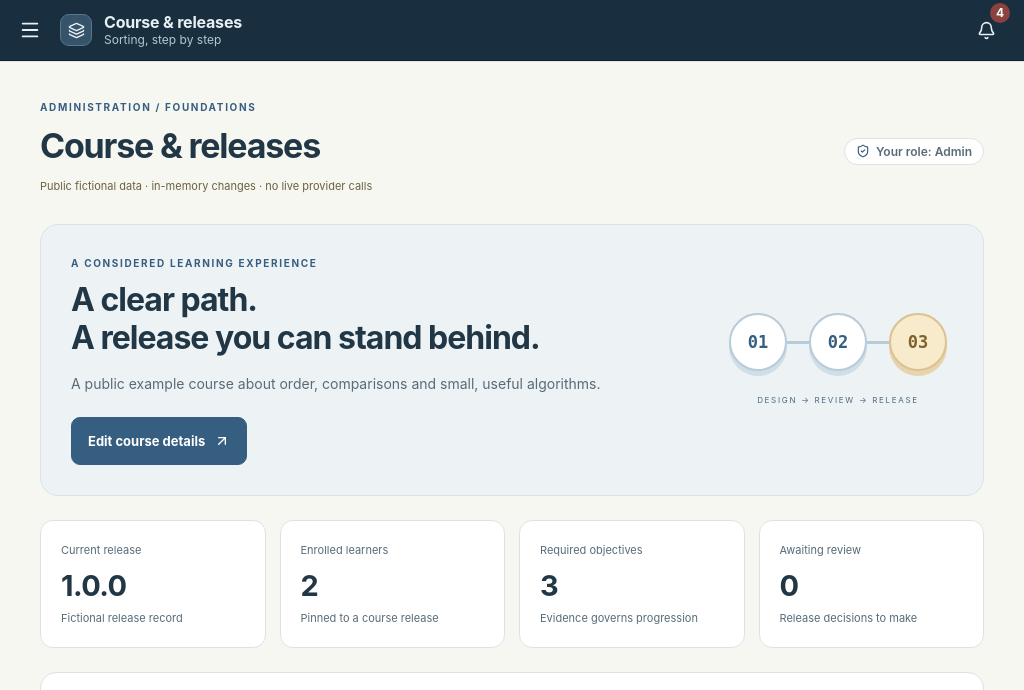
Scenario: phone and tablet navigation › opens the chosen section, closes the drawer and focuses the new page's heading
Expected: the heading "Course & releases" is shown, left=40, top=126, right=320, bottom=165
Click the button named "Open menu".
click(30, 30)  # box left=8, top=8, right=52, bottom=52
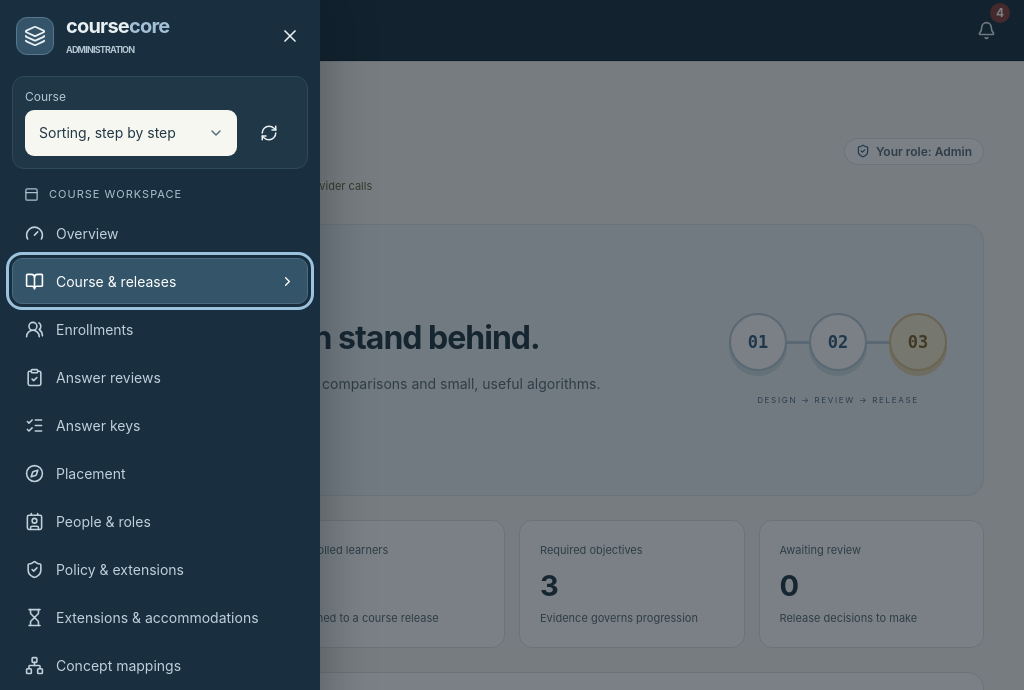
Click the button "Enrollments".
click(95, 329)  # box left=12, top=306, right=308, bottom=352
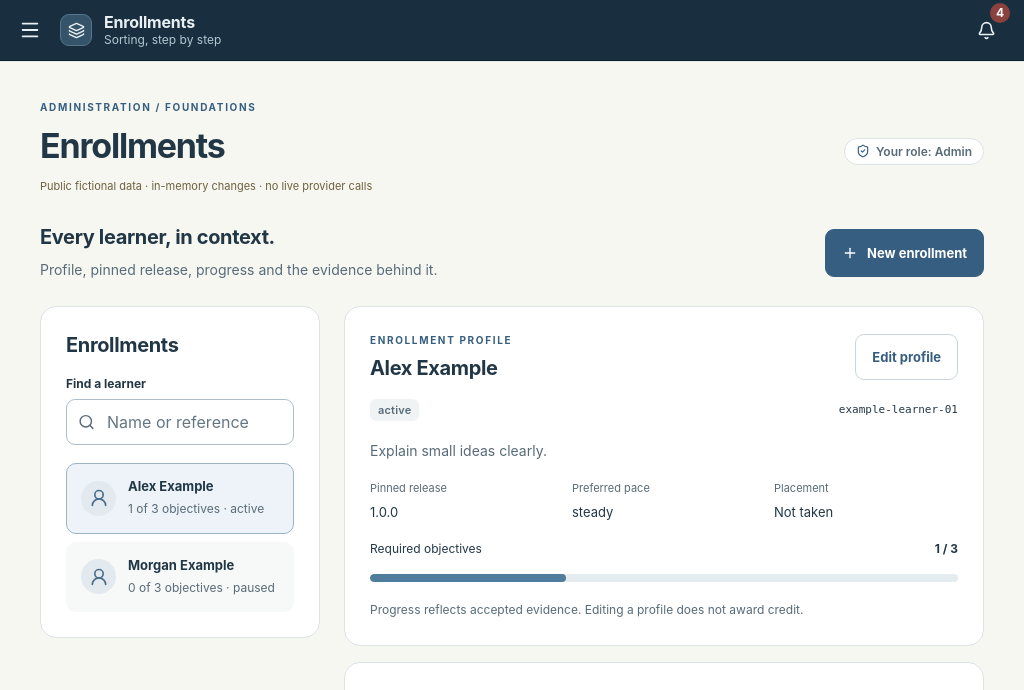
Now the heading "Enrollments" below "Administration / Foundations" is shown, box left=40, top=124, right=225, bottom=166
Now the text "Enrollments" is shown, box left=104, top=12, right=195, bottom=32
